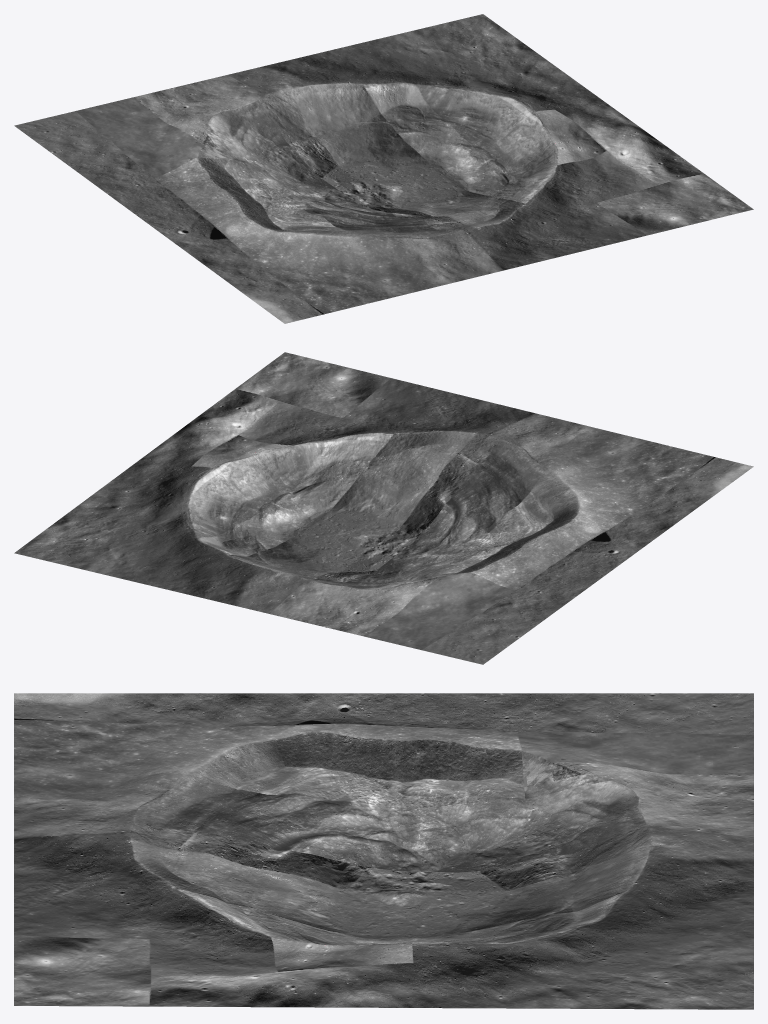
3 renders of one model, top to bottom at view 1: azimuth 30°, elevation 25°; view 2: azimuth 150°, elevation 25°; view 3: azimuth 270°, elevation 25°, orthographic. The views are drawn at different scales.
Visible parts, largest first — view 1: Crater; view 2: Crater; view 3: Crater.
Part boxes in pixels (bbox=[...]): Crater: bbox=[14, 14, 753, 323]; Crater: bbox=[14, 352, 753, 664]; Crater: bbox=[14, 693, 753, 1009].
Size of the model in its own units: 30889 by 2578 by 30890.
Materials: 2 (1 with a texture image).
